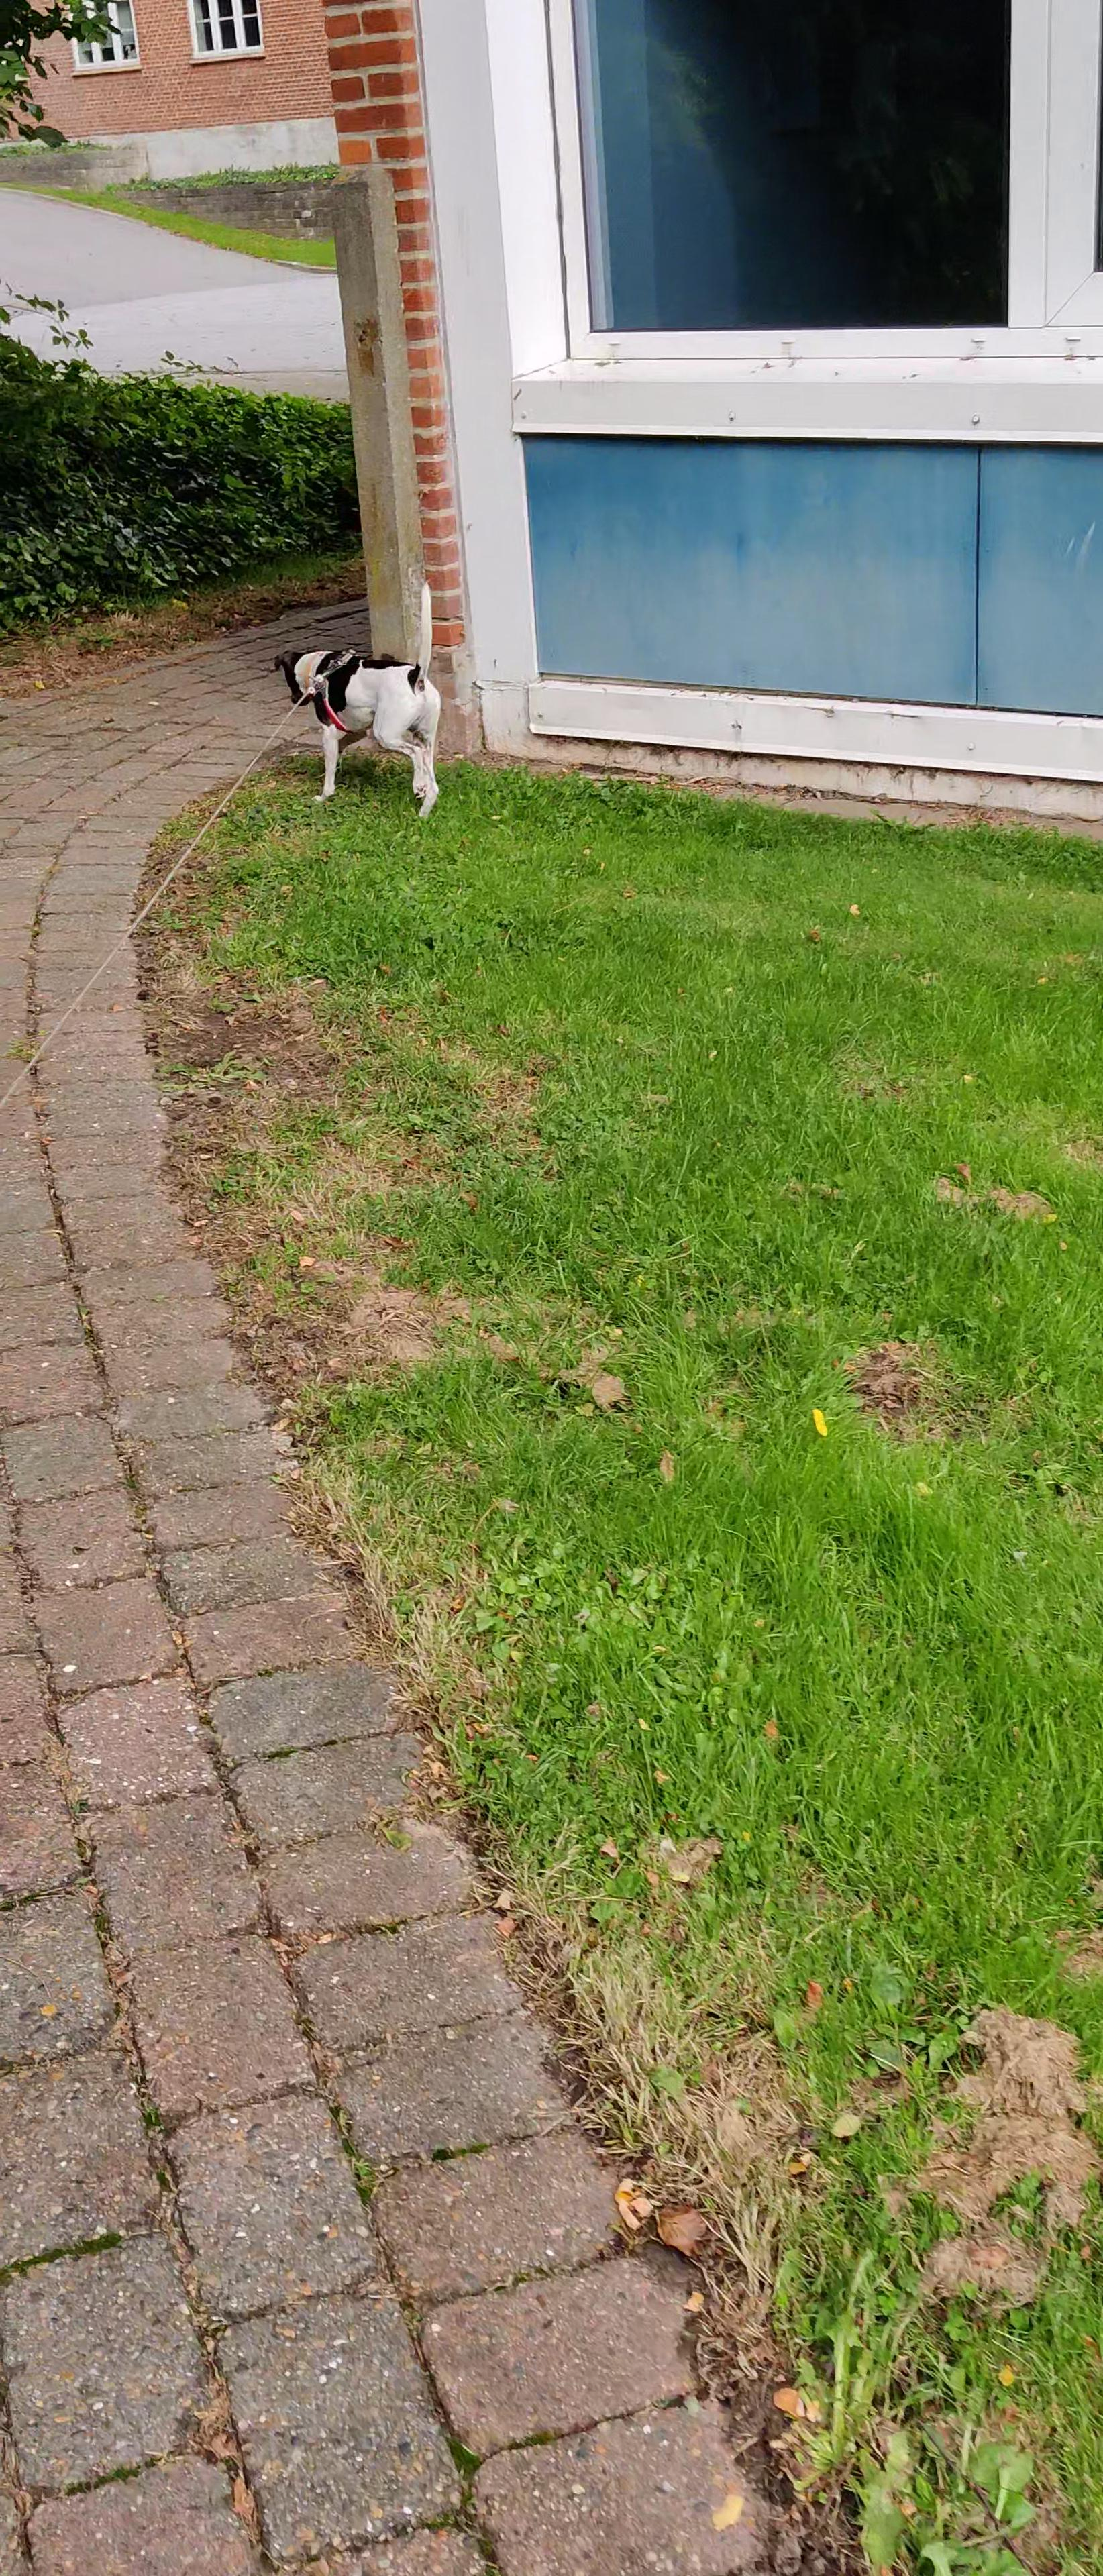Dog: (270, 575, 447, 823)
